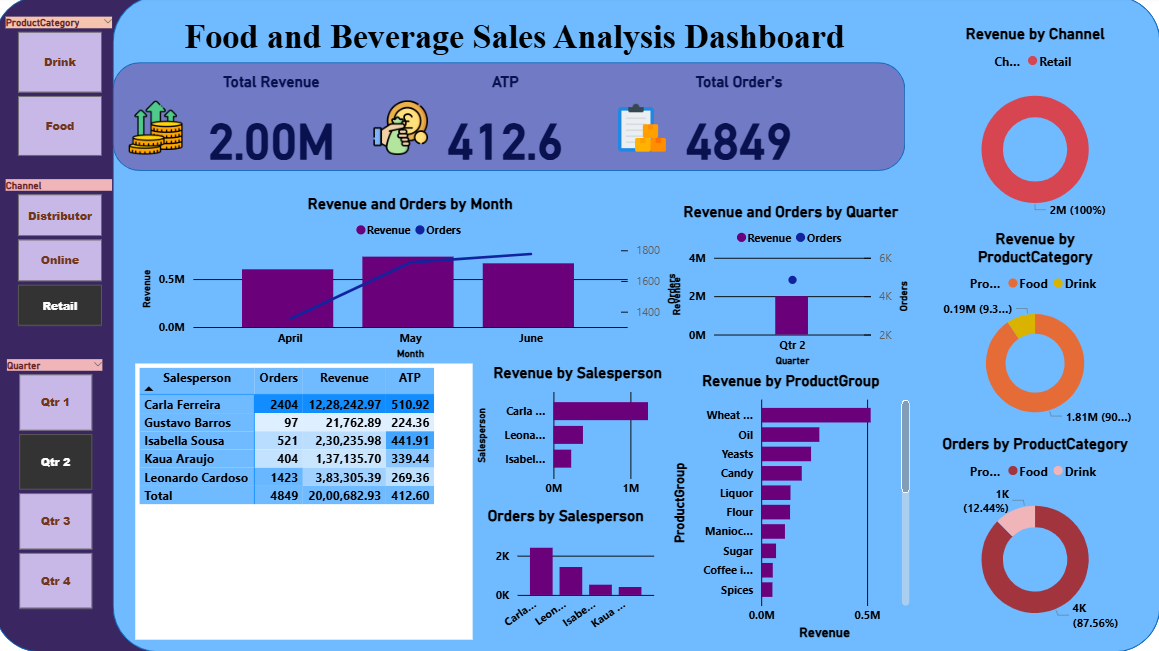

This screenshot's page, from the dashboard's own definition file:
{"tool":"powerbi","page":{"name":"Page 2","canvas":[1280,720],"ordinal":1},"visuals":[{"type":"shape","box":[0,0,1280.3,720.4],"z":0},{"type":"shape","box":[130.4,0,1149.9,720.4],"z":1000},{"type":"shape","box":[130.4,72.7,870,119.4],"z":2000},{"type":"card","title":"Total Revenue","fields":{"Values":["Product.Revenue"]},"box":[155.1,83.7,299.1,119.4],"z":3000},{"type":"card","title":"ATP","fields":{"Values":["Product.ATP"]},"box":[411.7,83.7,299.1,119.4],"z":4000},{"type":"card","title":"Total Order''s","fields":{"Values":["Product.Orders"]},"box":[668.3,83.7,299.1,119.4],"z":5000},{"type":"donutChart","fields":{"Y":["Product.Revenue"],"Category":["Sheet1.Channel"]},"box":[1033.3,31.6,219.6,225],"z":6000},{"type":"donutChart","fields":{"Y":["Product.Revenue"],"Category":["Product.ProductCategory"]},"box":[1033.3,256.6,219.6,225],"z":7000},{"type":"donutChart","fields":{"Category":["Product.ProductCategory"],"Y":["Product.Orders"]},"box":[1033.3,481.6,219.6,225],"z":8000},{"type":"lineStackedColumnComboChart","fields":{"Y":["Product.Revenue"],"Y2":["Product.Orders"],"Category":["Sheet1.OrderDate.Variation.Date Hierarchy.Quarter"]},"box":[739.6,226.4,270.3,185.2],"z":9000},{"type":"barChart","fields":{"Y":["Product.Revenue"],"Category":["Product.ProductGroup"]},"box":[739.6,411.7,270.3,300.5],"z":10000},{"type":"lineStackedColumnComboChart","fields":{"Y":["Product.Revenue"],"Y2":["Product.Orders"],"Category":["Sheet1.OrderDate.Variation.Date Hierarchy.Month"]},"box":[157.8,218.2,598.3,185.2],"z":11000},{"type":"barChart","fields":{"Y":["Product.Revenue"],"Category":["Sheet1.Salesperson"]},"box":[525.6,403.4,230.5,155.1],"z":12000},{"type":"clusteredColumnChart","fields":{"Y":["Product.Orders"],"Category":["Sheet1.Salesperson"]},"box":[525.6,559.9,204.5,146.8],"z":13000},{"type":"pivotTable","fields":{"Rows":["Sheet1.Salesperson"],"Values":["Product.Orders","Product.Revenue","Product.ATP"]},"box":[155.1,403.4,370.5,303.3],"z":14000},{"type":"slicer","fields":{"Values":["Product.ProductCategory"]},"box":[0,17.8,142.7,164.7],"z":15000},{"type":"slicer","fields":{"Values":["Sheet1.Channel"]},"box":[0,196.2,142.7,172.9],"z":16000},{"type":"slicer","fields":{"Values":["Sheet1.OrderDate.Variation.Date Hierarchy.Quarter"]},"box":[1.4,393.8,130.4,285.4],"z":17000},{"type":"textbox","box":[142.7,17.8,857.6,54.9],"z":18000},{"type":"image","box":[142.7,109.8,70,70],"z":19000},{"type":"image","box":[676.5,109.8,70,70],"z":20000},{"type":"image","box":[411.7,109.8,70,70],"z":21000}]}

Visuals, with their boxes in screenshot pixels (x1, y1, x2, y2), scaled from the page's 1280x720 canvas onto the 1159x651 screenshot:
shape: <bbox>0, 0, 1158, 650</bbox>
shape: <bbox>118, 0, 1158, 650</bbox>
shape: <bbox>118, 66, 906, 174</bbox>
"Total Revenue" card: <bbox>140, 76, 411, 184</bbox>
"ATP" card: <bbox>373, 76, 644, 184</bbox>
"Total Order''s" card: <bbox>605, 76, 876, 184</bbox>
donutChart - Product.Revenue x Sheet1.Channel: <bbox>936, 29, 1134, 232</bbox>
donutChart - Product.Revenue x Product.ProductCategory: <bbox>936, 232, 1134, 435</bbox>
donutChart - Product.ProductCategory x Product.Orders: <bbox>936, 435, 1134, 639</bbox>
lineStackedColumnComboChart - Product.Revenue x Product.Orders: <bbox>670, 205, 914, 372</bbox>
barChart - Product.Revenue x Product.ProductGroup: <bbox>670, 372, 914, 644</bbox>
lineStackedColumnComboChart - Product.Revenue x Product.Orders: <bbox>143, 197, 685, 365</bbox>
barChart - Product.Revenue x Sheet1.Salesperson: <bbox>476, 365, 685, 505</bbox>
clusteredColumnChart - Product.Orders x Sheet1.Salesperson: <bbox>476, 506, 661, 639</bbox>
pivotTable - Sheet1.Salesperson x Product.Orders: <bbox>140, 365, 476, 639</bbox>
slicer - Product.ProductCategory: <bbox>0, 16, 129, 165</bbox>
slicer - Sheet1.Channel: <bbox>0, 177, 129, 334</bbox>
slicer - Sheet1.OrderDate.Variation.Date Hierarchy.Quarter: <bbox>1, 356, 119, 614</bbox>
textbox: <bbox>129, 16, 906, 66</bbox>
image: <bbox>129, 99, 193, 163</bbox>
image: <bbox>613, 99, 676, 163</bbox>
image: <bbox>373, 99, 436, 163</bbox>
